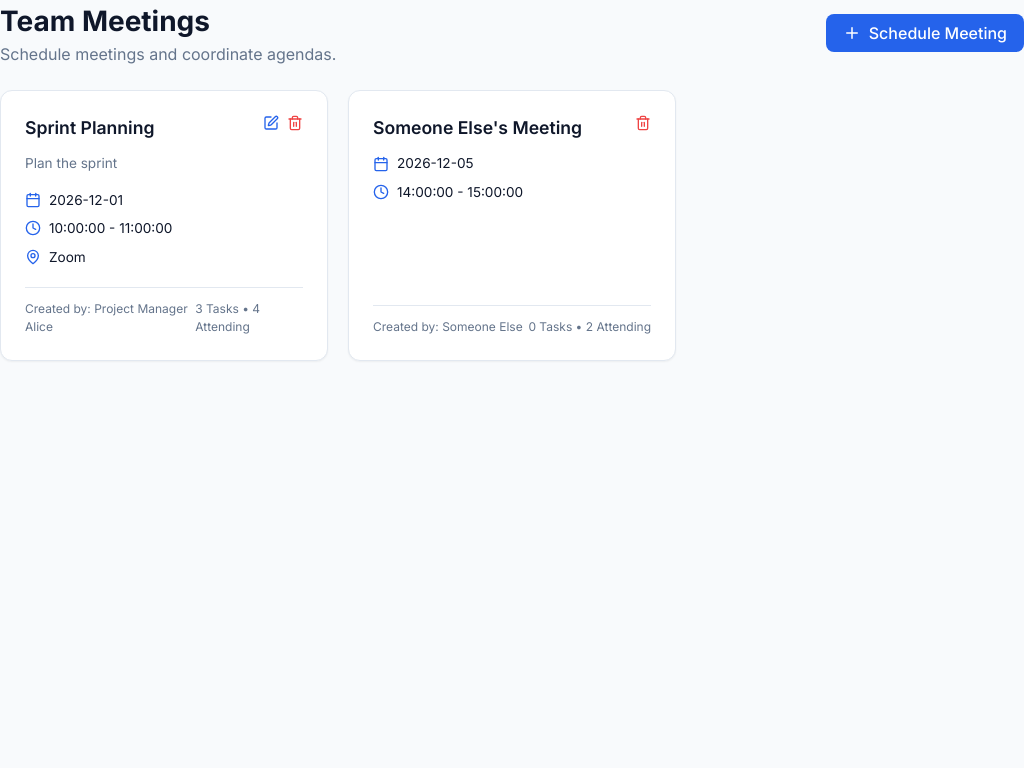
MeetingsPage — edit meeting (real component, jsdom) › pre-fills the form with the meeting's current details when Edit is clicked
Expected: the heading "Sprint Planning" is shown, [25,115,154,141]
Click the button titled "Edit Meeting": [271, 125] box [263,115,279,135]
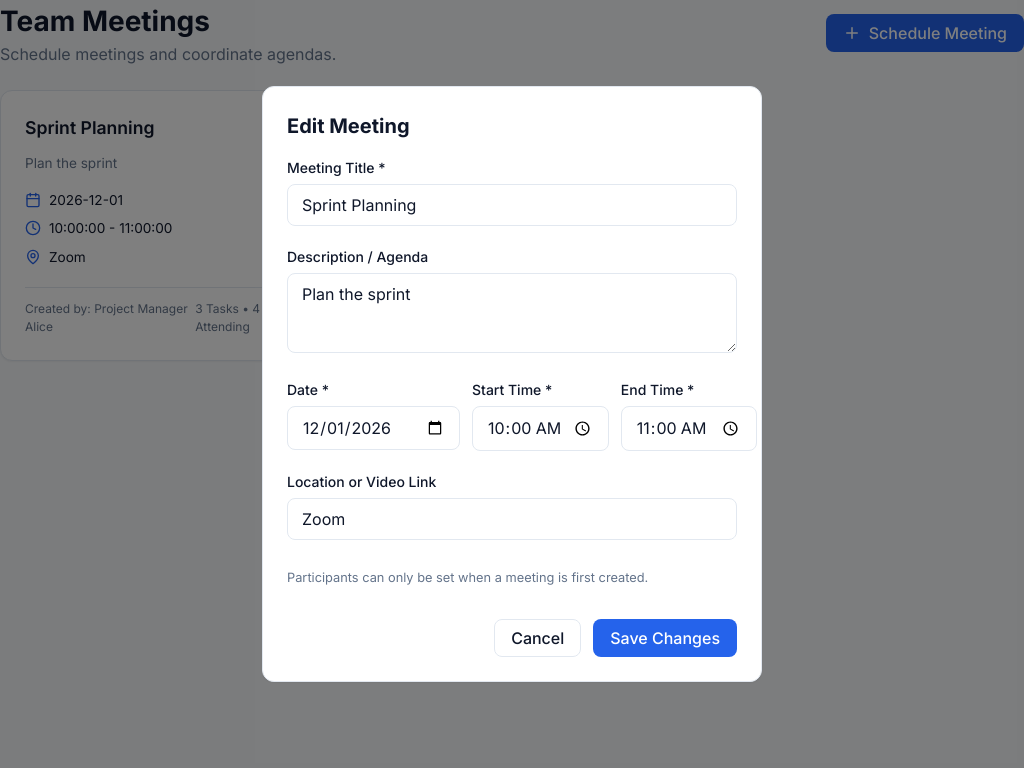
Result: the heading "Edit Meeting" is shown at [287,114,410,138]
Result: the field showing "Sprint Planning" below "Meeting Title *" is shown at [287,184,737,226]
Result: the text box showing "Plan the sprint" is shown at [287,273,737,353]
